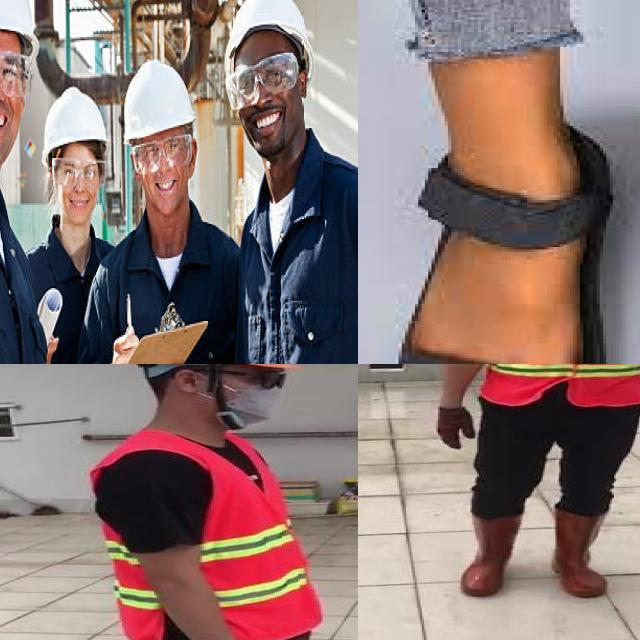No_Ear-Protection: (128, 153, 142, 183), (189, 140, 200, 176), (299, 68, 306, 100)
Sandals: (358, 49, 640, 364)
boots: (554, 506, 614, 597), (463, 512, 525, 594)
face_mask: (200, 364, 294, 428)
face_nomask: (242, 93, 299, 150), (143, 165, 189, 213), (61, 188, 98, 224), (0, 99, 21, 159)
glasses: (226, 52, 299, 110), (132, 135, 193, 175), (228, 368, 300, 393), (52, 159, 103, 191), (0, 50, 33, 99)
hand_glove: (433, 406, 475, 449)
hand_noglove: (111, 328, 139, 364), (111, 333, 140, 364)
head_helmet: (224, 0, 316, 83), (124, 60, 196, 141), (42, 88, 106, 166), (0, 0, 39, 61)
person: (73, 364, 347, 640), (401, 364, 640, 607)
vest: (79, 437, 331, 640), (489, 364, 640, 409)
